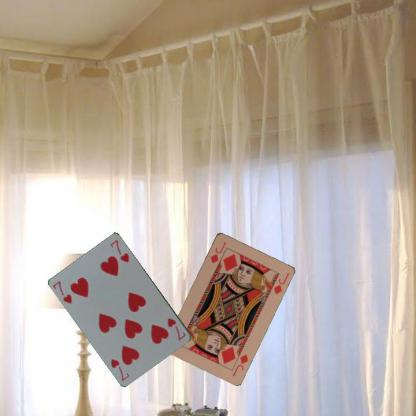7h: (50, 279, 74, 305), (165, 316, 187, 342)
Jd: (207, 238, 227, 264), (229, 352, 249, 378)
